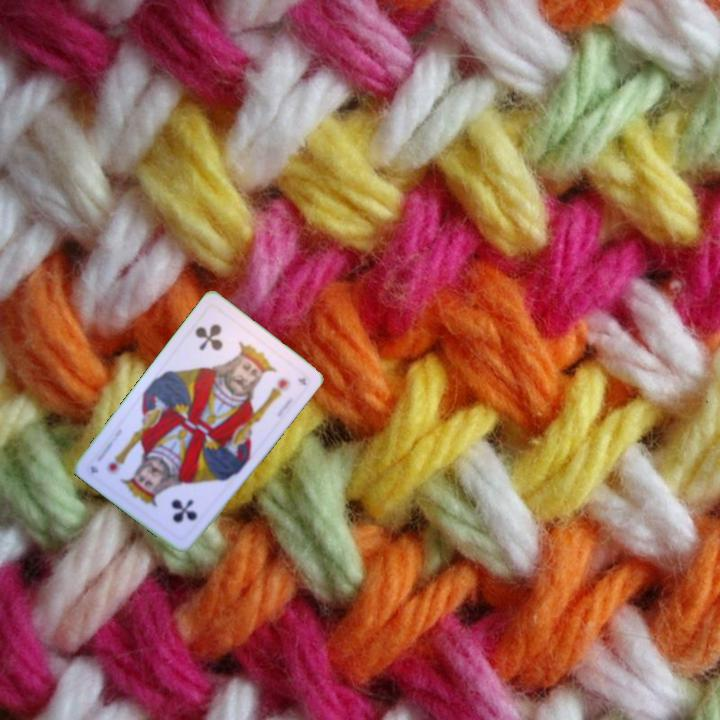c_k.png: (133, 460, 219, 545), (178, 301, 264, 386)
